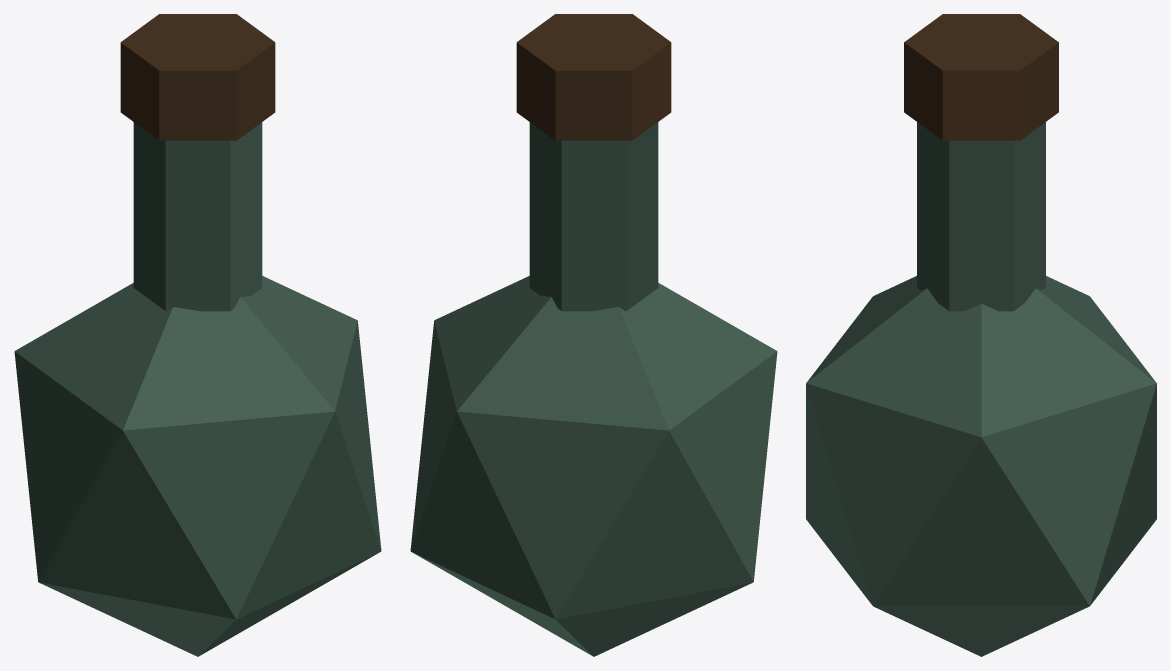
The model's file is draught.glb.
3 renders of one model, left to right at view 1: azimuth 30°, elevation 25°; view 2: azimuth 150°, elevation 25°; view 3: azimuth 270°, elevation 25°, orthographic.
Parts seen in each view (by area): view 1: Draught; view 2: Draught; view 3: Draught.
Boxes of the visible parts, x1,y1,x2,y2 form: Draught: (14,14,381,656); Draught: (410,14,777,656); Draught: (806,14,1156,656).
Bounding box in the file's own units: 0.1431 × 0.263 × 0.1361.
